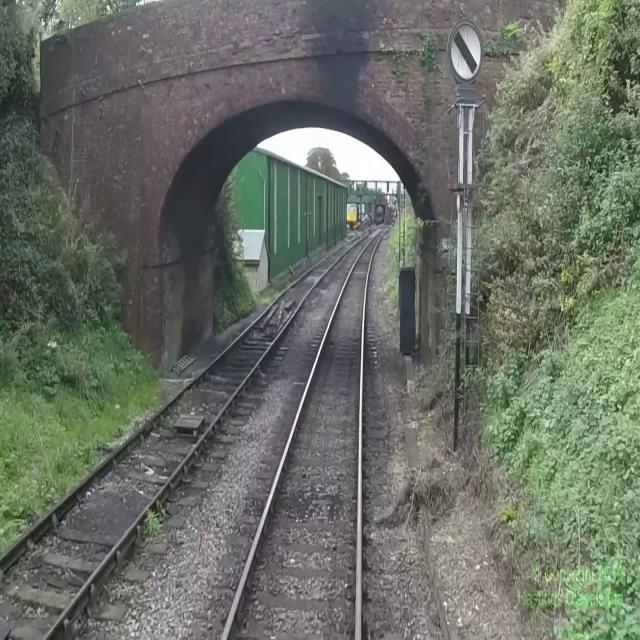rail-track: (0, 225, 378, 639), (226, 227, 388, 639)
